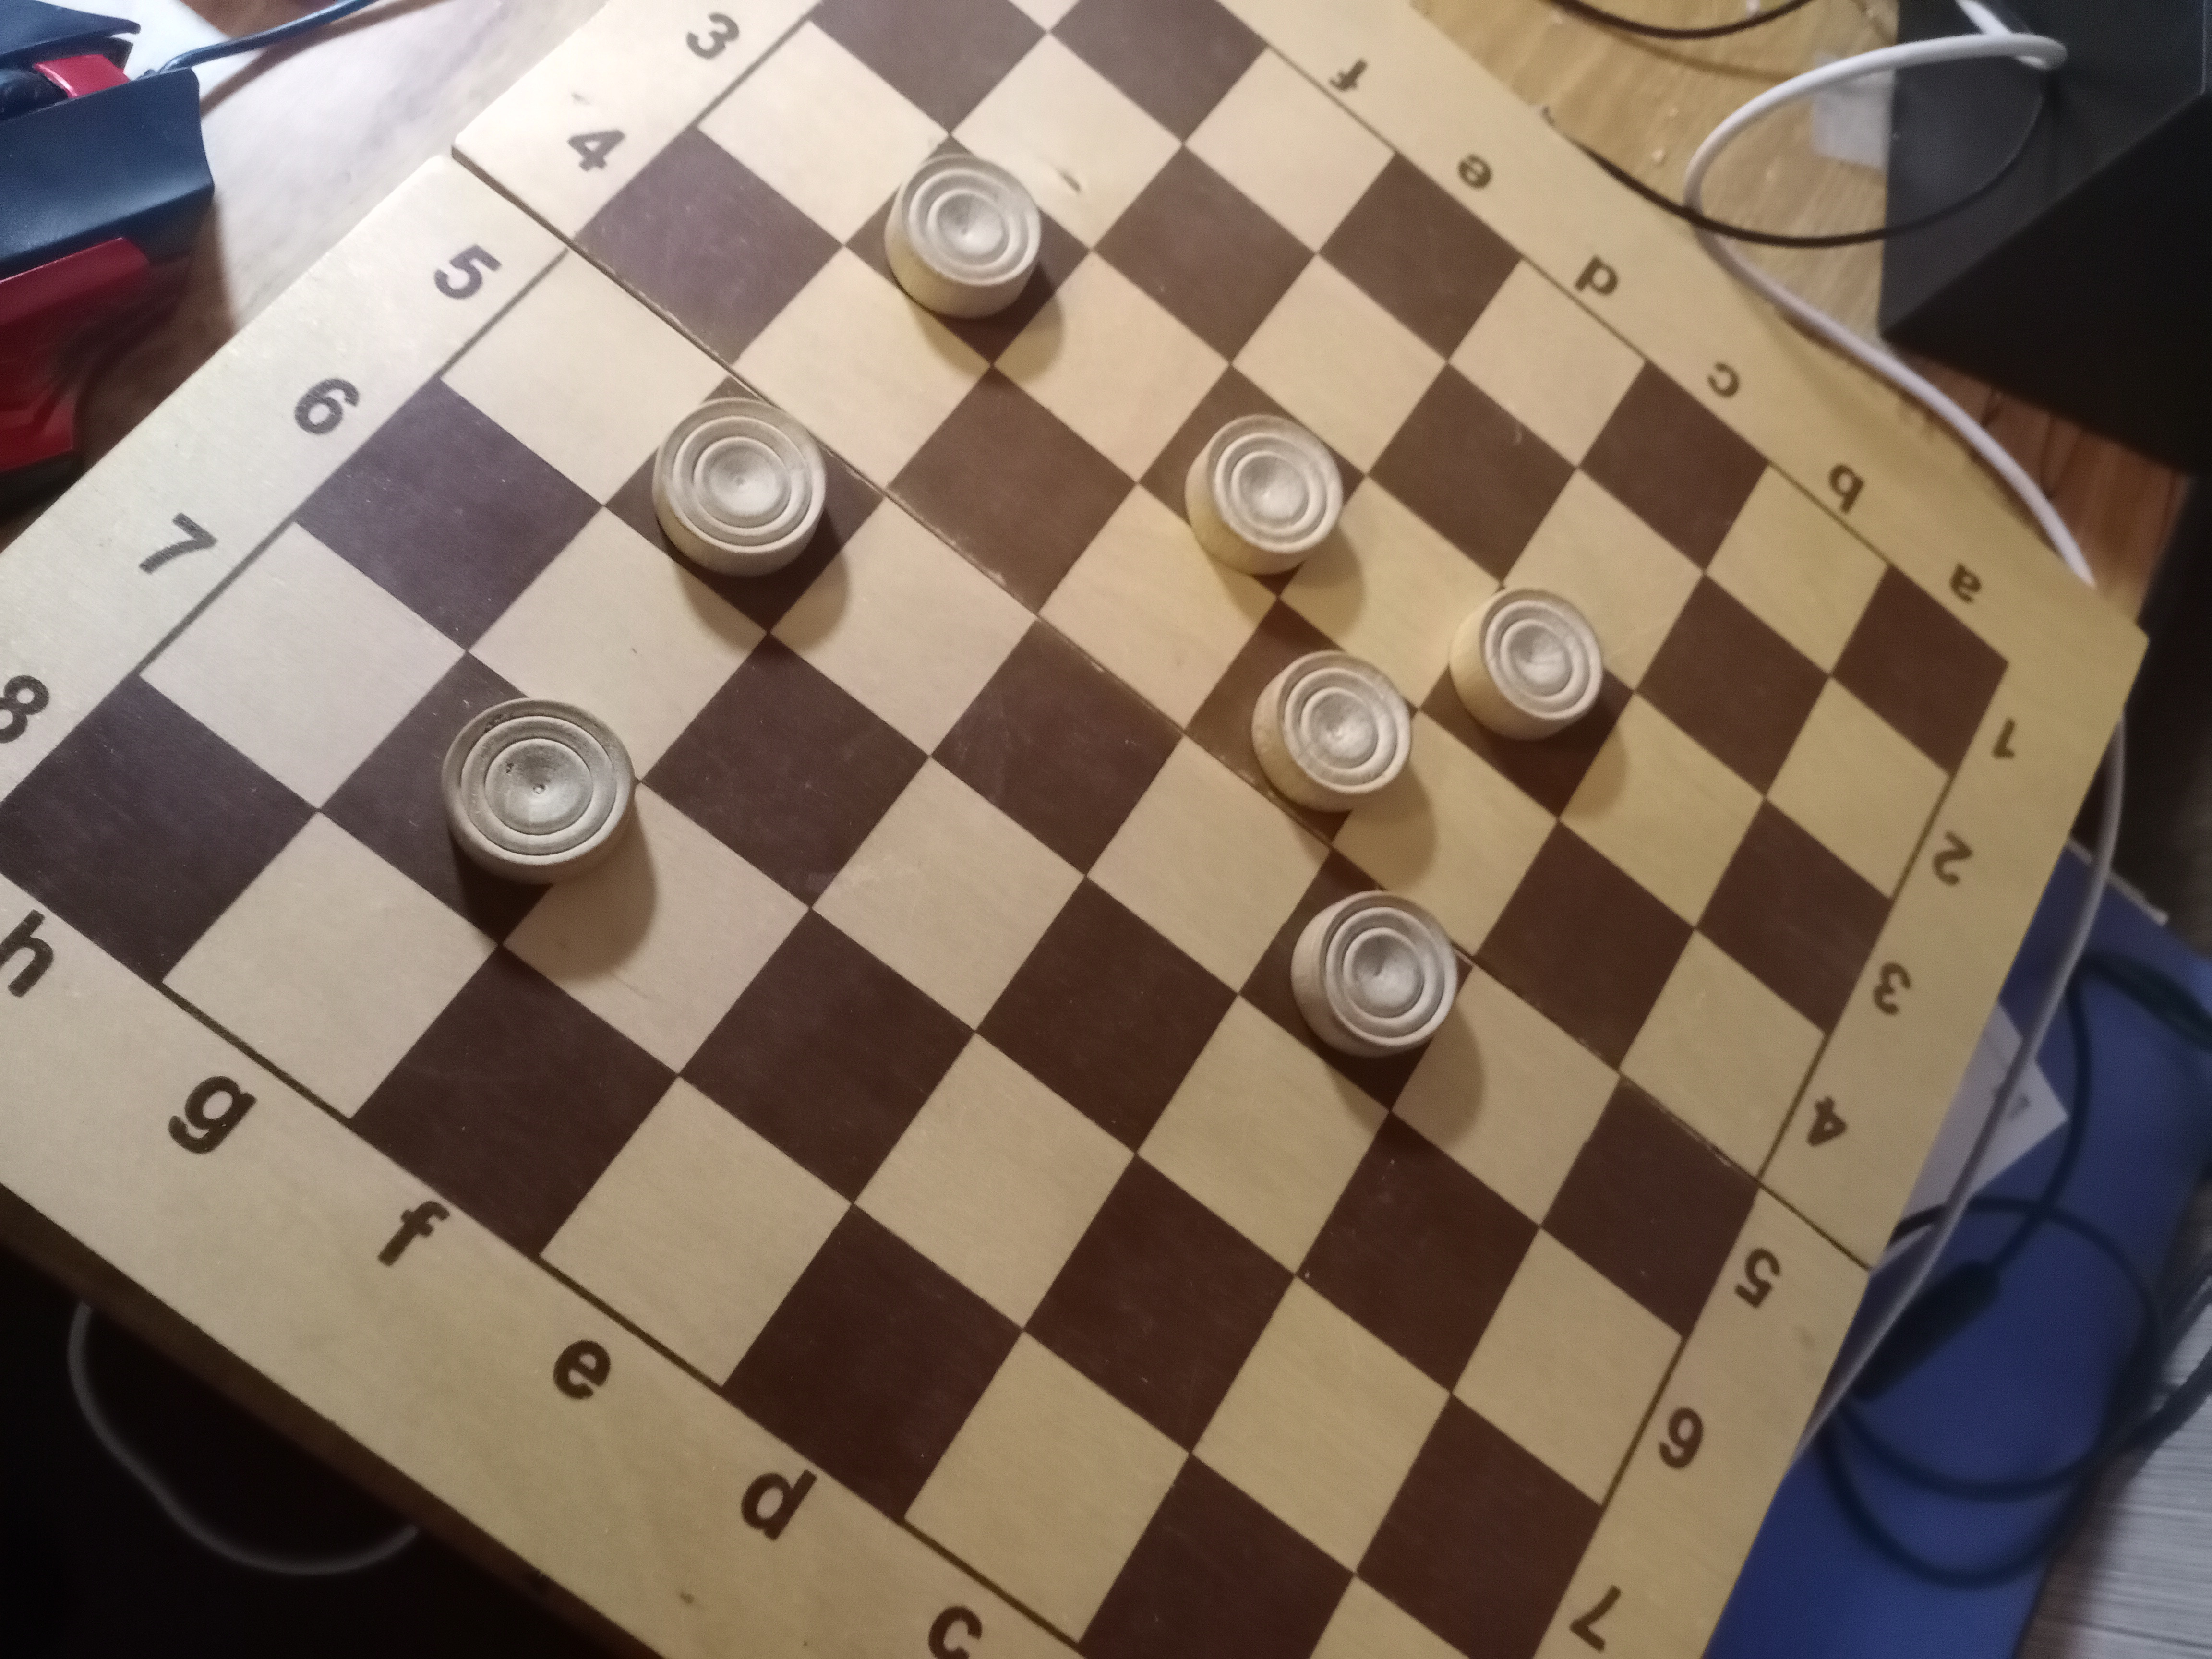White_Draught: (319, 652, 639, 945), (603, 376, 887, 634), (1238, 847, 1474, 1110), (1184, 598, 1421, 847), (843, 136, 1092, 366), (1137, 366, 1367, 598), (1421, 580, 1635, 819)
